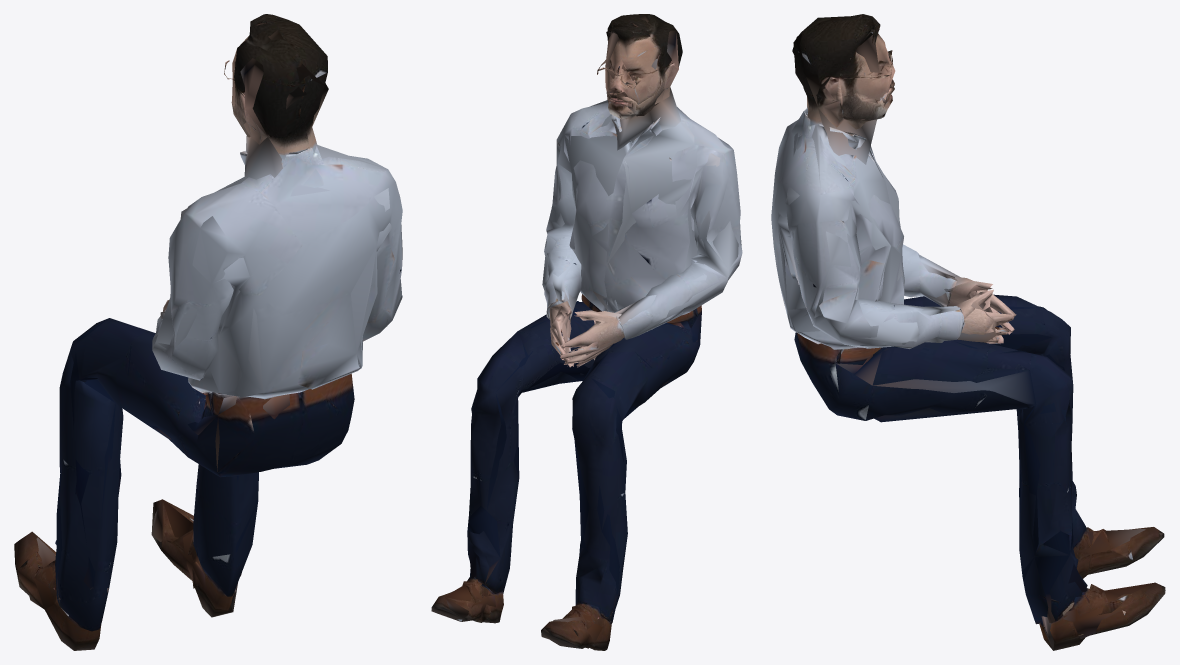
The model's file is persona-04.glb.
The picture shows the model from 3 angles, left to right: view 1: azimuth 30°, elevation 25°; view 2: azimuth 150°, elevation 25°; view 3: azimuth 270°, elevation 25°; orthographic projection. The views are drawn at different scales.
Visible parts, largest first — view 1: cerca, lejos; view 2: cerca, lejos; view 3: cerca, lejos.
Boxes of the visible parts, x1,y1,x2,y2 form: cerca: (14, 14, 402, 650); lejos: (29, 29, 401, 616); cerca: (431, 14, 742, 650); lejos: (436, 15, 741, 648); cerca: (771, 14, 1165, 650); lejos: (777, 17, 1165, 650).
Size of the model in its own units: 0.4892 by 1.38 by 0.821.
2 materials, 1 textured.
